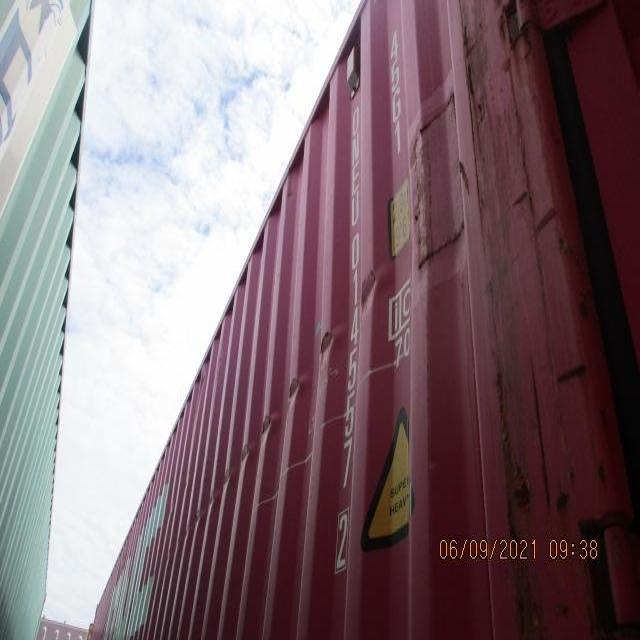dent: (184, 264, 403, 533)
